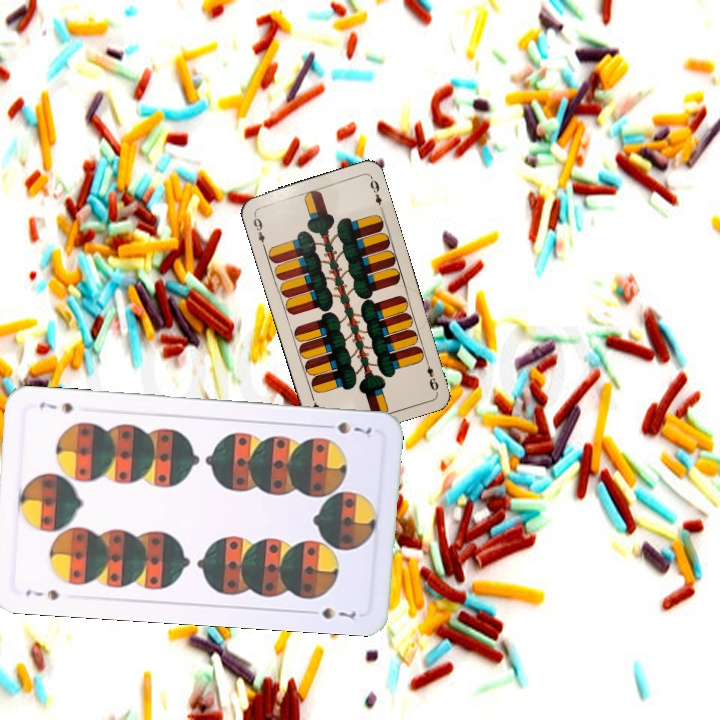E9: (249, 210, 268, 250), (422, 354, 441, 393)
S7: (318, 418, 374, 437), (22, 585, 61, 603)
